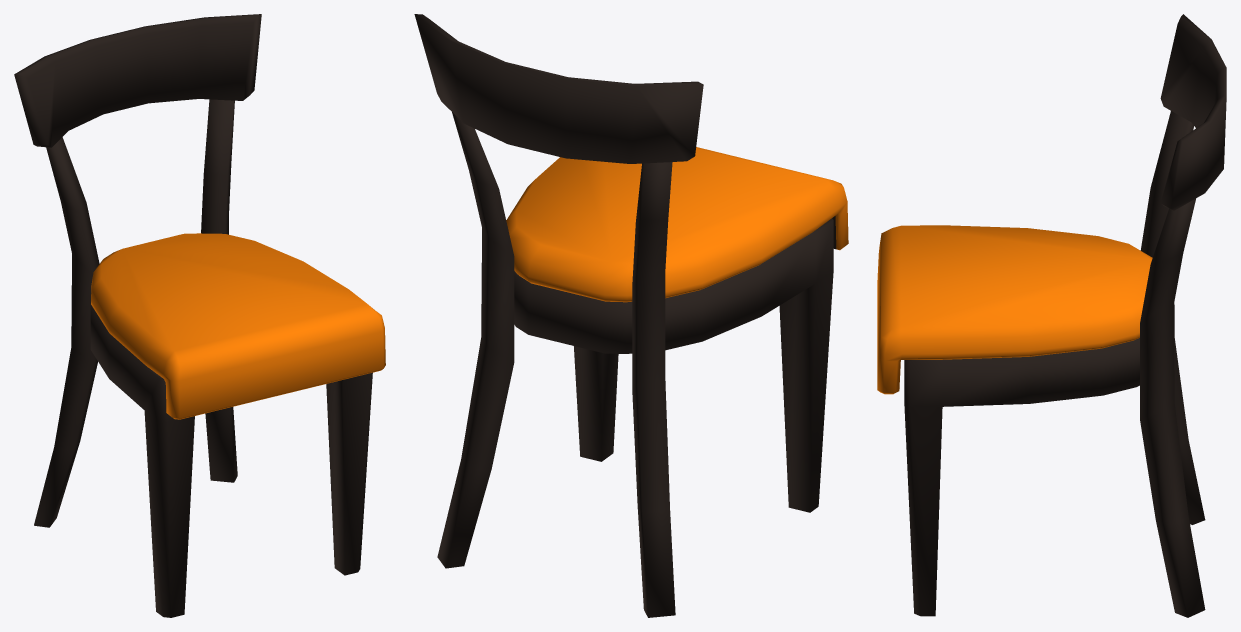
File: chair.dae
3 views of the same model, side by side, from view 1: azimuth 30°, elevation 25°; view 2: azimuth 150°, elevation 25°; view 3: azimuth 270°, elevation 25° (orthographic). The views are drawn at different scales.
Parts seen in each view (by area): view 1: telo-0; view 2: telo-0; view 3: telo-0.
Part boxes in pixels (x1,y1,x2,y2): telo-0: (14, 14, 385, 617); telo-0: (414, 14, 848, 617); telo-0: (877, 14, 1226, 617).
Size of the model in its own units: 4.78 by 8.45 by 5.49.
